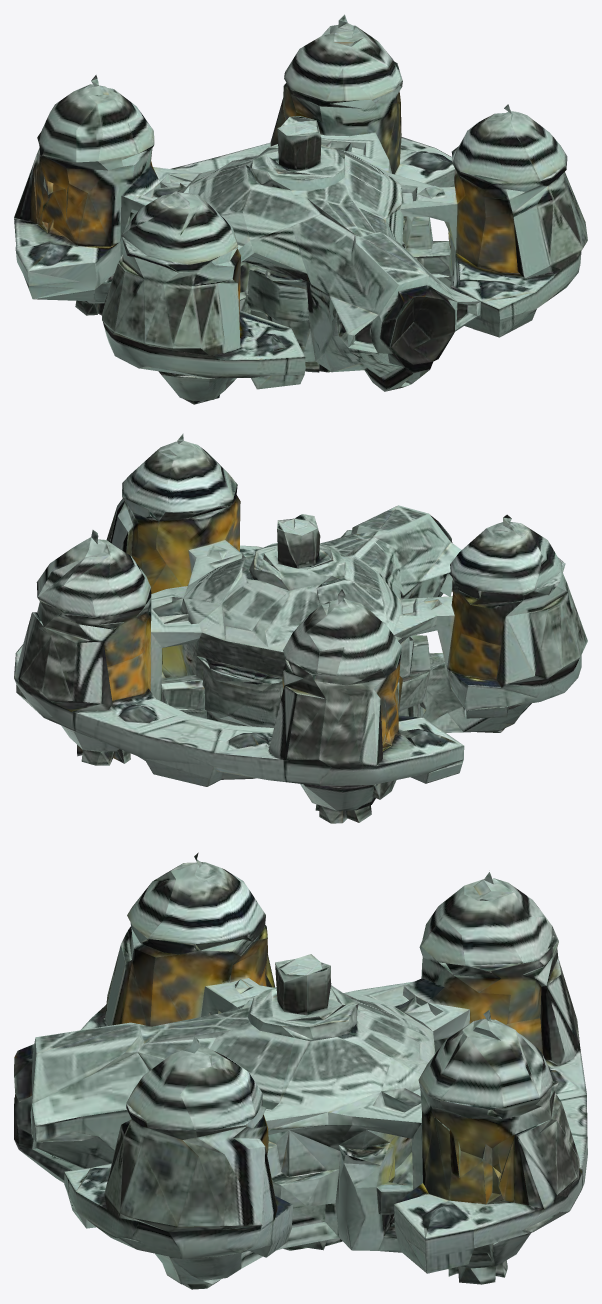
The model's file is nation-x-fortress.glb.
The picture shows the model from 3 angles, top to bottom: view 1: azimuth 30°, elevation 25°; view 2: azimuth 150°, elevation 25°; view 3: azimuth 270°, elevation 25°; orthographic projection. The views are drawn at different scales.
Bounding box in the file's own units: 1.89 × 0.9643 × 1.74.
1 material, 1 textured.
